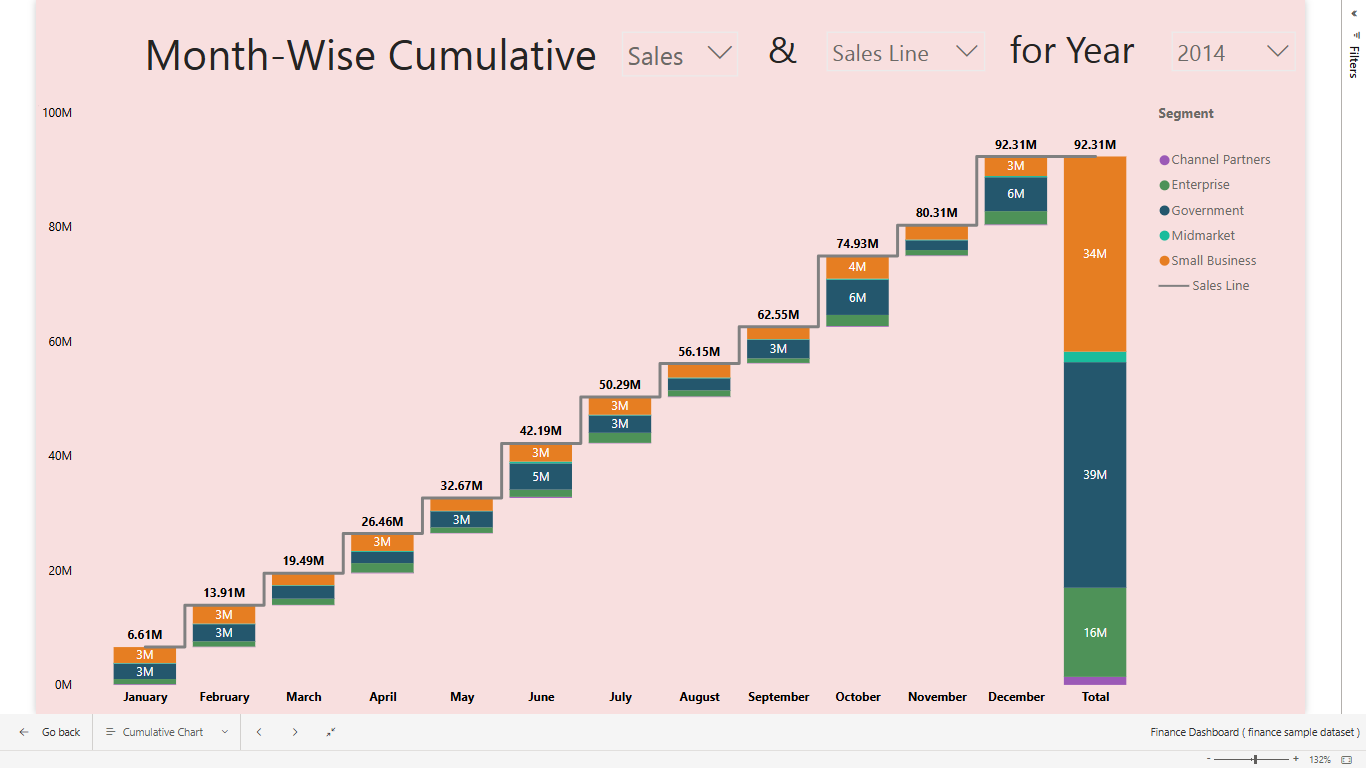

The page's visual inventory and layout, read from the dashboard file:
{"tool":"powerbi","page":{"name":"Cumulative Chart","canvas":[1280,720],"ordinal":2},"visuals":[{"type":"lineStackedColumnComboChart","fields":{"Y":["financials.Sales Measure"],"Y2":["financials.Sales Waterfall Line"],"Category":["Waterfall Calculated Categories.Month Name"],"Series":["Waterfall Calculated Series.Segment"]},"box":[0,98.8,1280,621.2],"z":0},{"type":"slicer","fields":{"Values":["Parameter.Parameter"]},"box":[580,21.4,138.6,60],"z":1000},{"type":"slicer","fields":{"Values":["Parameter 2.Parameter"]},"box":[786.6,21.3,180,59.5],"z":2000},{"type":"textbox","box":[94.3,0,485.7,98.6],"z":3000},{"type":"textbox","box":[718.6,0,68,97.8],"z":4000},{"type":"textbox","box":[966.6,0,155.9,97.8],"z":5000},{"type":"slicer","fields":{"Values":["financials.Year"]},"box":[1134.4,21.4,145.6,59.9],"z":6000}]}

Visuals, with their boxes on the page's 1280x720 design canvas (x1, y1, x2, y2). These are canvas units, not pixel positions in the 1366x768 screenshot, which may show the page scaled, cropped or inside an application window:
lineStackedColumnComboChart - financials.Sales Measure x financials.Sales Waterfall Line: region(0, 99, 1280, 720)
slicer - Parameter.Parameter: region(580, 21, 719, 81)
slicer - Parameter 2.Parameter: region(787, 21, 967, 81)
textbox: region(94, 0, 580, 99)
textbox: region(719, 0, 787, 98)
textbox: region(967, 0, 1122, 98)
slicer - financials.Year: region(1134, 21, 1280, 81)
